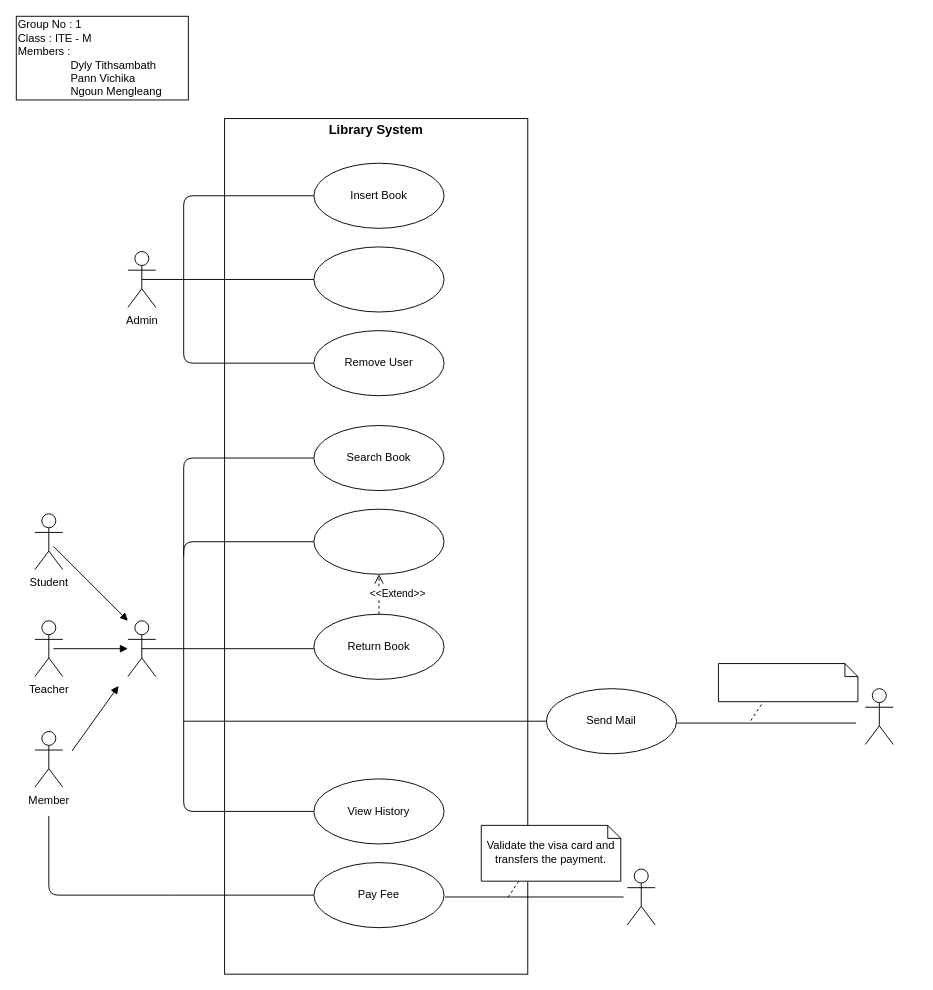
The diagram is 933 pixels wide and 990 high, and some of its shapes have lost their labels. Here are the shapes that lost their labels. From the top down, the centre of each, then its label:
At pixel 378 279: "Remove Book".
At pixel 378 541: "Borrow Book".
At pixel 141 648: "User".
At pixel 787 682: "Provides email services.".
At pixel 878 716: "Mailing System".
At pixel 640 896: "Bank".
